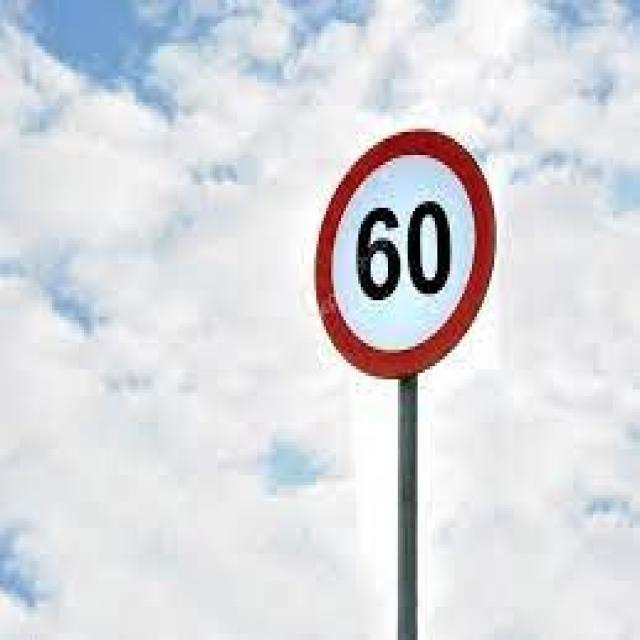speed_limit_60: (300, 120, 505, 388)
